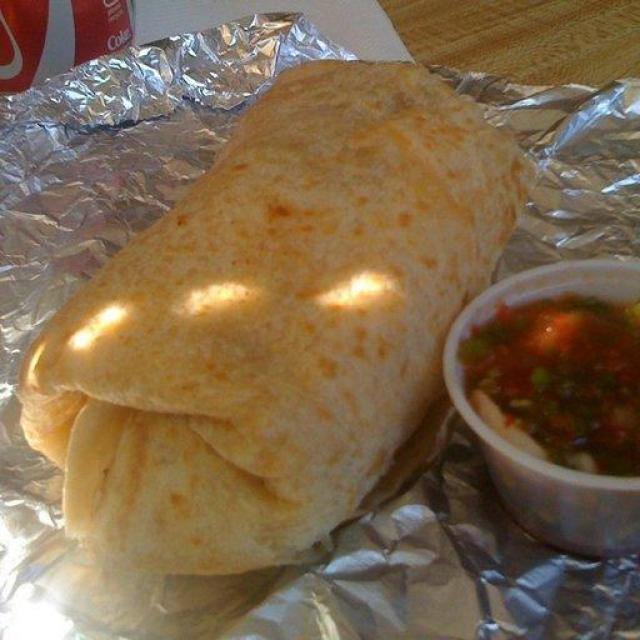food_waste: (15, 56, 640, 596)
